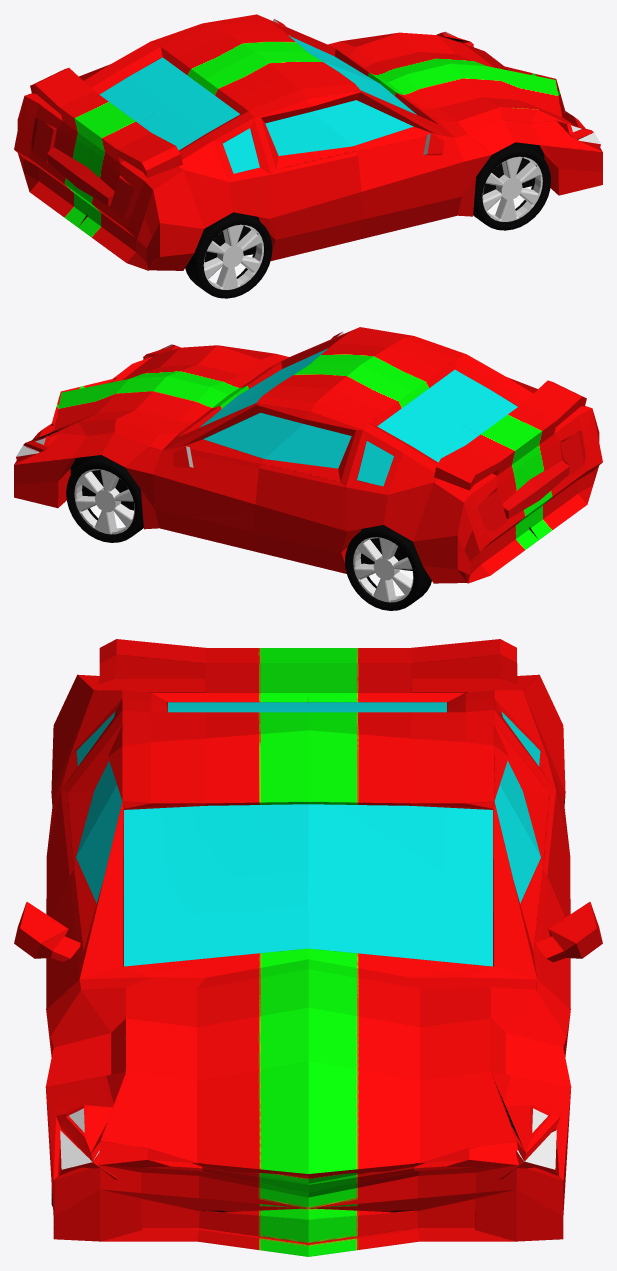
File: SportsCar.fbx
3 views of the same model, one above another, from view 1: azimuth 30°, elevation 25°; view 2: azimuth 150°, elevation 25°; view 3: azimuth 270°, elevation 25° (orthographic). The views are drawn at different scales.
Visible parts, largest first — view 1: SportsCar, BR_Wheel, FR_Wheel; view 2: SportsCar, BL_Wheel, FL_Wheel; view 3: SportsCar.
Part boxes in pixels (box(x1,y1,x2,y2)): SportsCar: box(14, 14, 602, 270); BR_Wheel: box(185, 212, 272, 298); FR_Wheel: box(473, 142, 550, 230); SportsCar: box(14, 327, 602, 583); BL_Wheel: box(345, 525, 431, 610); FL_Wheel: box(66, 455, 143, 542); SportsCar: box(14, 639, 602, 1256).
Size of the model in its own units: 472 by 161 by 279.
